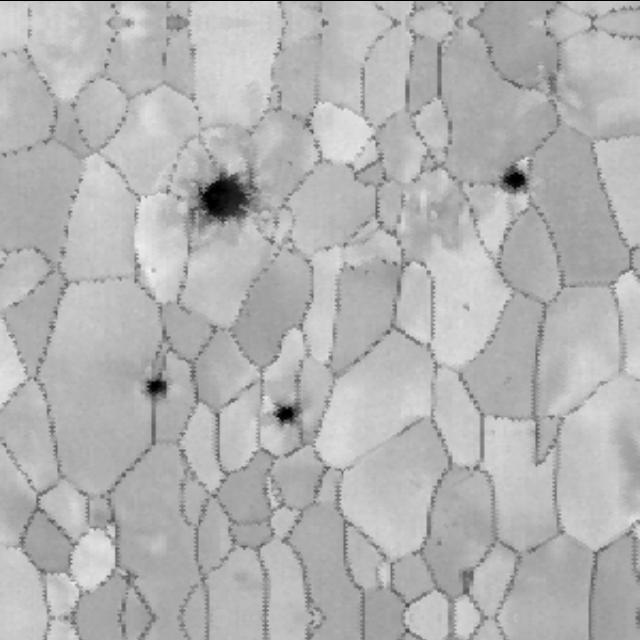good_void: (170, 157, 275, 239), (262, 391, 316, 440), (133, 360, 178, 409), (483, 164, 525, 200), (453, 564, 482, 599), (458, 295, 476, 315), (431, 527, 446, 548), (146, 265, 159, 275)
